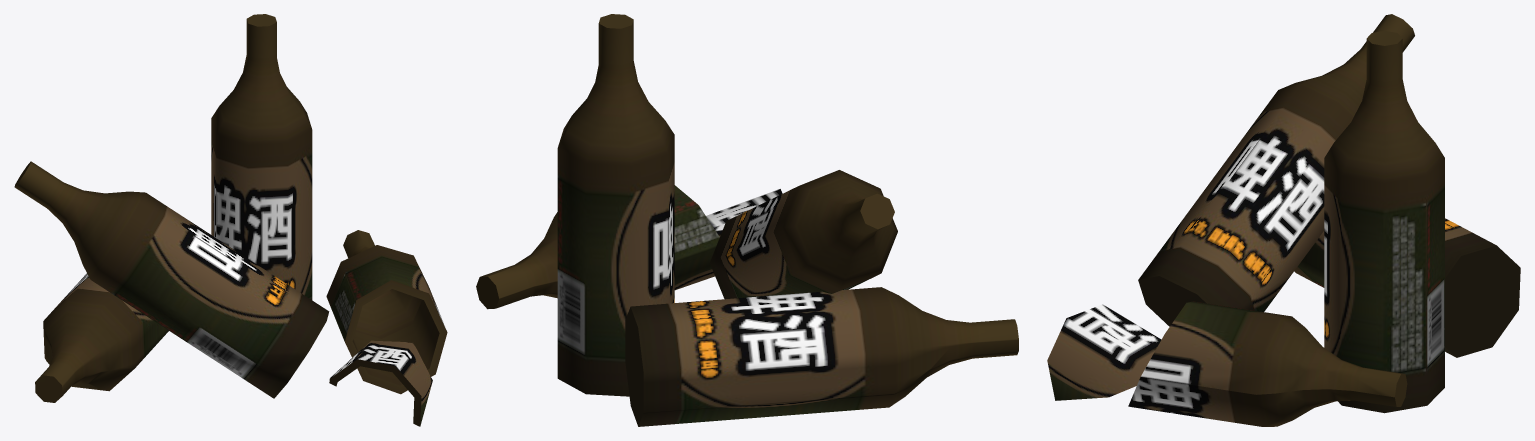
File: obj_beer.fbx
The picture shows the model from 3 angles, left to right: view 1: azimuth 30°, elevation 25°; view 2: azimuth 150°, elevation 25°; view 3: azimuth 270°, elevation 25°; orthographic projection. The views are drawn at different scales.
Visible parts, largest first — view 1: pCylinder10; view 2: pCylinder10; view 3: pCylinder10.
Boxes of the visible parts, x1,y1,x2,y2 form: pCylinder10: [14, 14, 447, 426]; pCylinder10: [476, 14, 1018, 426]; pCylinder10: [1047, 14, 1520, 426].
Size of the model in its own units: 0.9828 by 0.7125 by 0.8648.
1 material, 1 textured.
